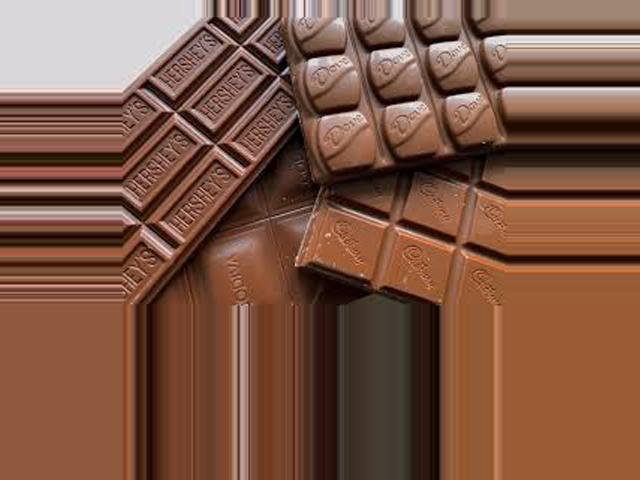chocolate: (296, 120, 509, 289)
